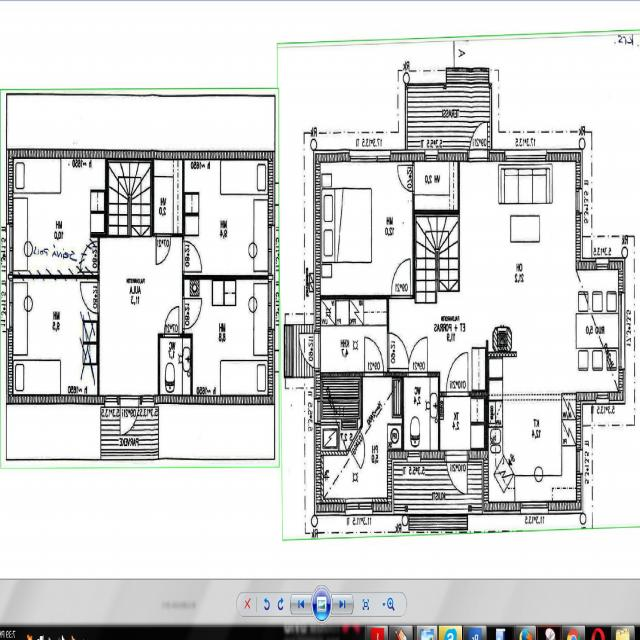door: (446, 450, 467, 500), (447, 352, 468, 397), (295, 333, 321, 368), (120, 394, 139, 439), (469, 116, 487, 162), (349, 428, 370, 467), (387, 334, 409, 369), (392, 261, 411, 299), (409, 338, 427, 377), (365, 338, 383, 377), (80, 282, 100, 314), (182, 241, 201, 271), (182, 299, 201, 328), (164, 307, 179, 337), (156, 233, 171, 263), (399, 166, 415, 190)
